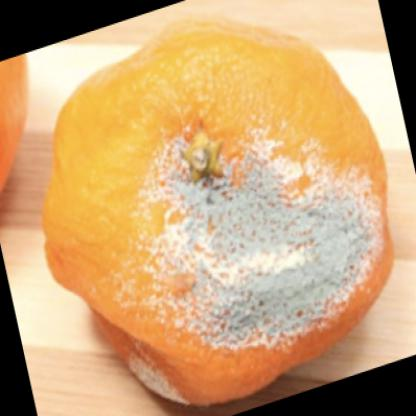rotten_orange: (30, 9, 393, 409)
